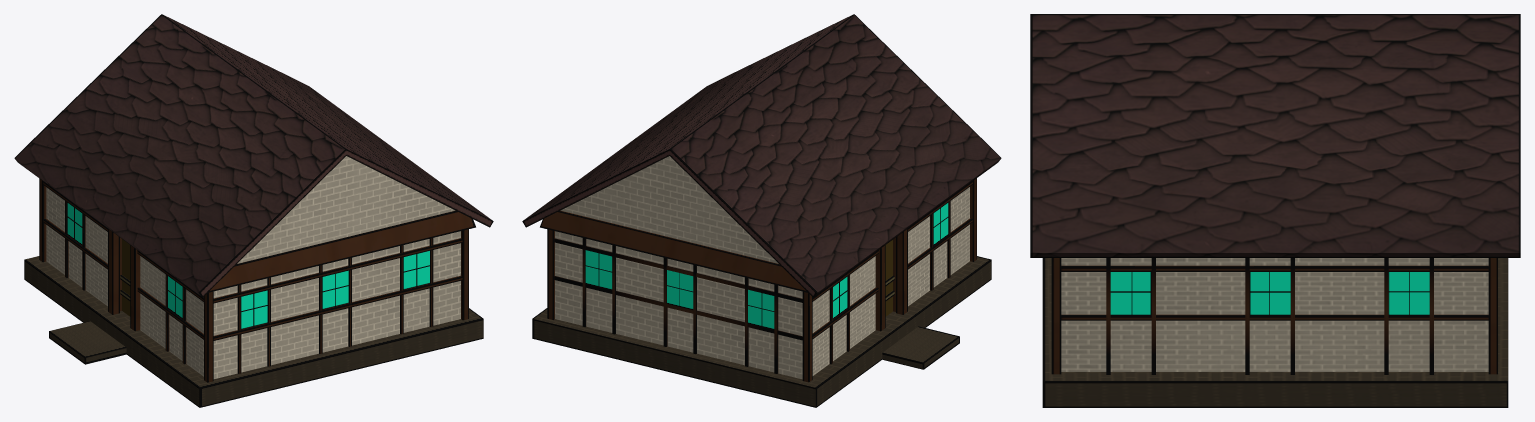
3 renders of one model, left to right at view 1: azimuth 30°, elevation 25°; view 2: azimuth 150°, elevation 25°; view 3: azimuth 270°, elevation 25°, orthographic. The views are drawn at different scales.
Parts seen in each view (by area): view 1: House2_1; view 2: House2_1; view 3: House2_1.
Boxes of the visible parts, x1,y1,x2,y2 form: House2_1: [14, 14, 493, 407]; House2_1: [522, 14, 1001, 407]; House2_1: [1030, 14, 1520, 407].
Bounding box in the file's own units: 164 × 108 × 159.
